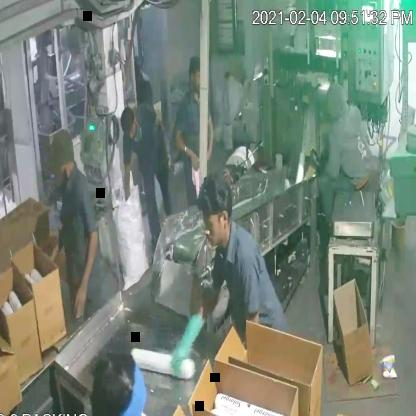glove: (171, 303, 204, 379)
no_glove: (66, 217, 102, 325), (171, 119, 202, 176), (119, 155, 139, 207), (200, 114, 219, 166)
